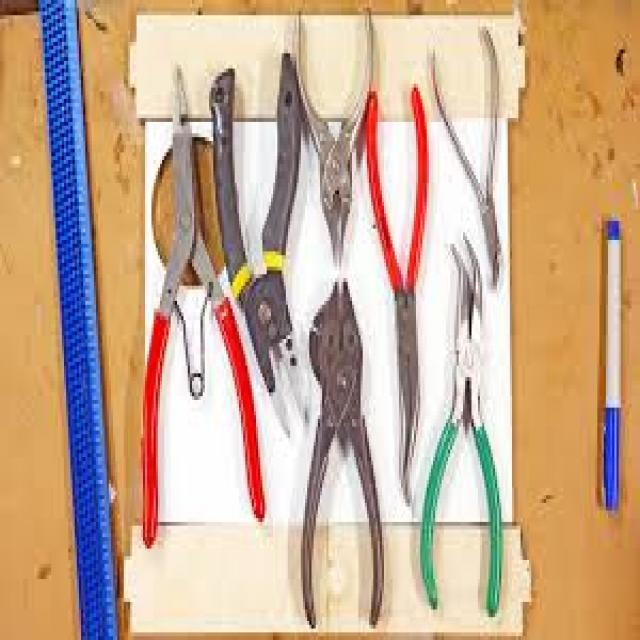pliers: (93, 76, 275, 552), (207, 48, 327, 466), (352, 83, 438, 509), (418, 226, 503, 622), (301, 254, 382, 640), (287, 0, 379, 263), (422, 16, 510, 286)
